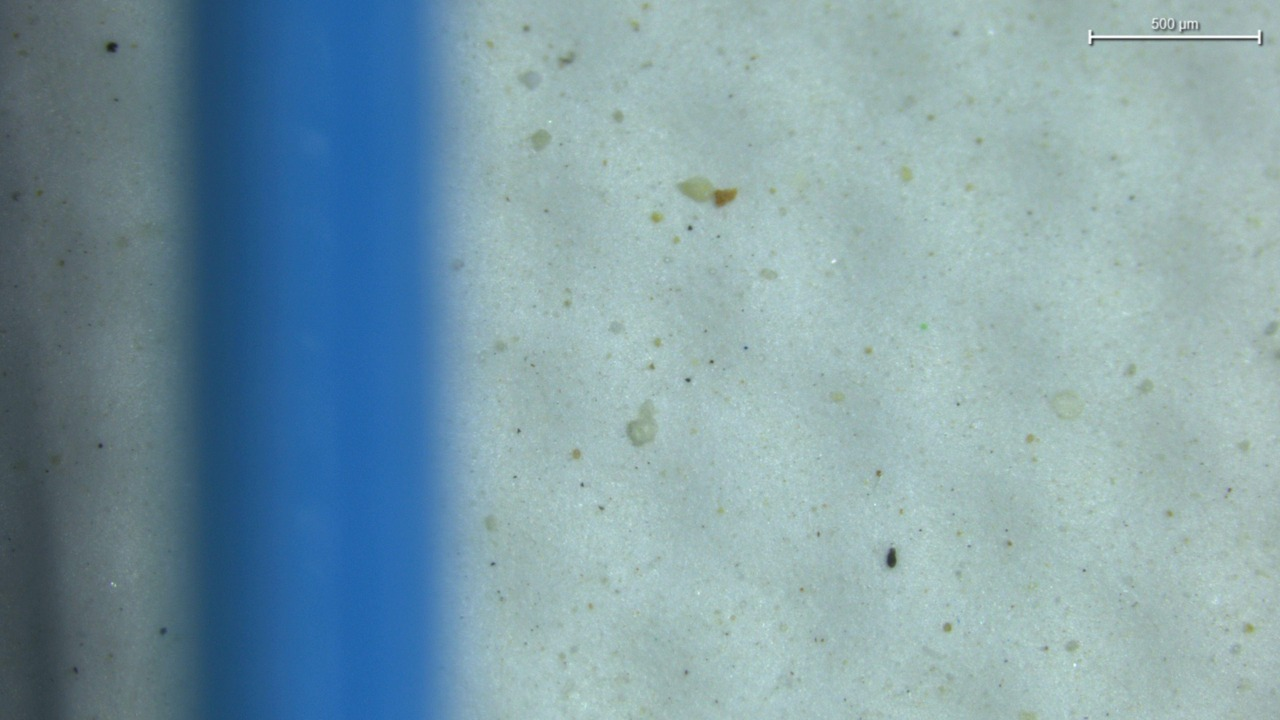microplastic_fragment: (627, 400, 658, 447)
